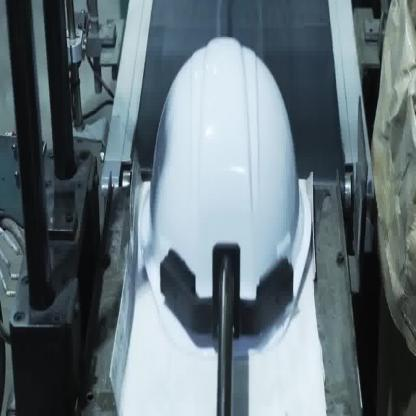helmet: (138, 34, 312, 358)
